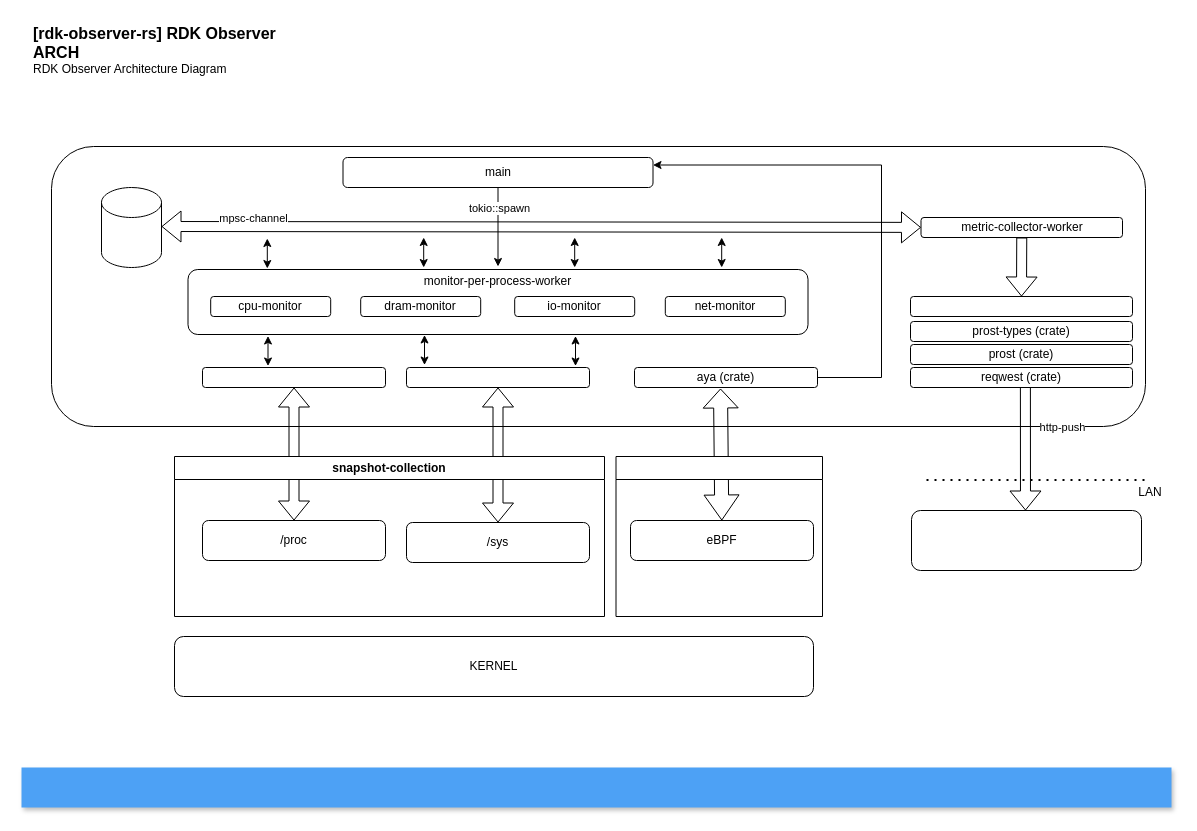
Some shapes in this 1197 by 831 pixel diagram are drawn without their labels. Each missing label, with the centre of its shape:
"Architecture: rdk-observer-rs" belongs at (597,788).
"COLLECTOR" belongs at (1026,540).
"event-drive-collection" belongs at (718,536).
"process registry" belongs at (131,227).
"procfs (crate)" belongs at (294,377).
"prost-build (crate)" belongs at (1021,306).
"sysfs (crate)" belongs at (498,377).
